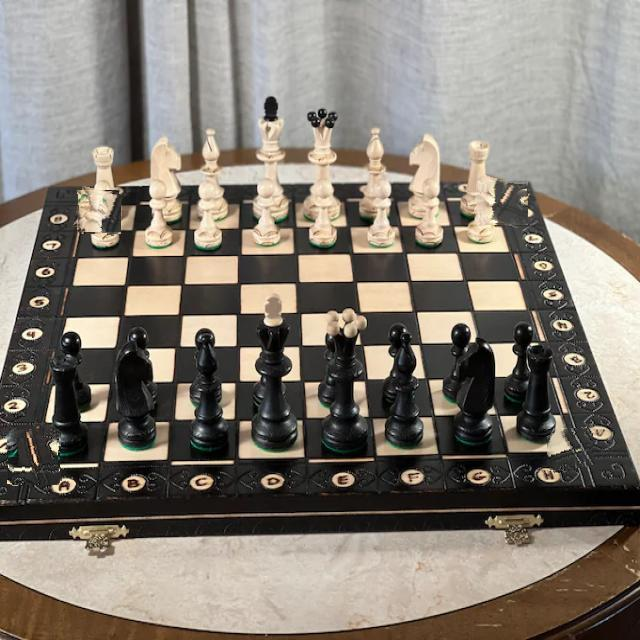chess-table-corners: (7, 428, 61, 485), (476, 178, 528, 225), (75, 188, 121, 234), (547, 428, 594, 471)
